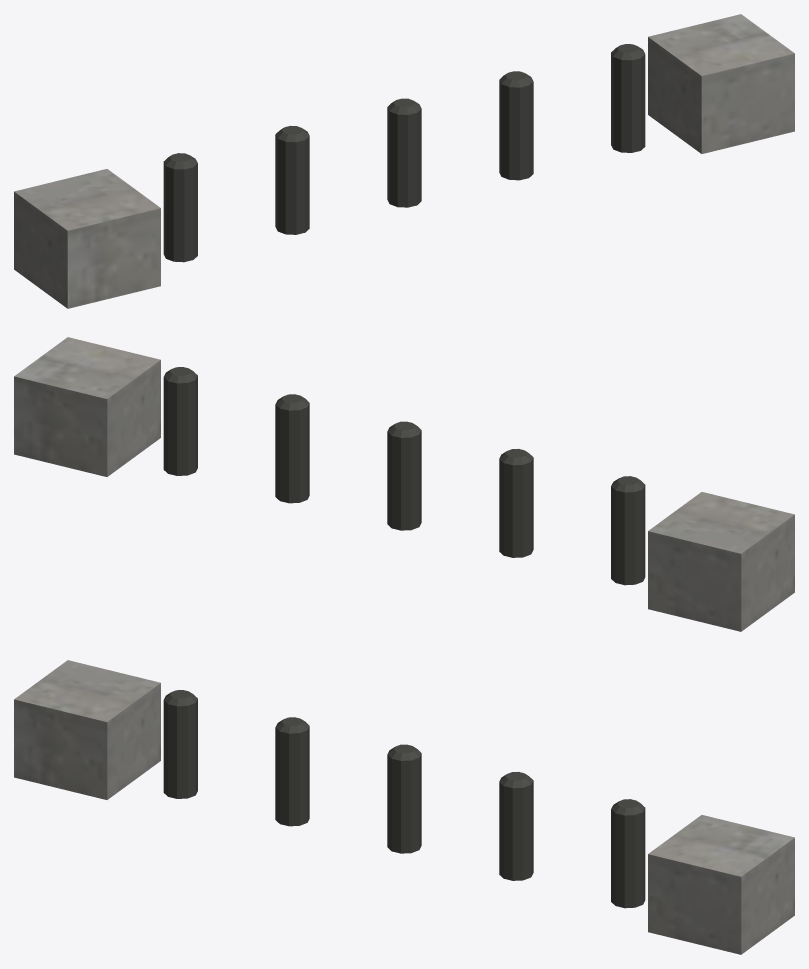
The model's file is dc_bollard_row.glb.
3 views of the same model, one above another, from view 1: azimuth 30°, elevation 25°; view 2: azimuth 150°, elevation 25°; view 3: azimuth 330°, elevation 25° (orthographic).
Parts seen in each view (by area): view 1: dc_bollard_row; view 2: dc_bollard_row; view 3: dc_bollard_row.
Part boxes in pixels (x1,y1,x2,y2): dc_bollard_row: [14, 14, 794, 308]; dc_bollard_row: [14, 337, 794, 631]; dc_bollard_row: [14, 660, 794, 954].
Bounding box in the file's own units: 7.8 × 0.9998 × 0.9998.
Materials: 2 (2 with a texture image).
